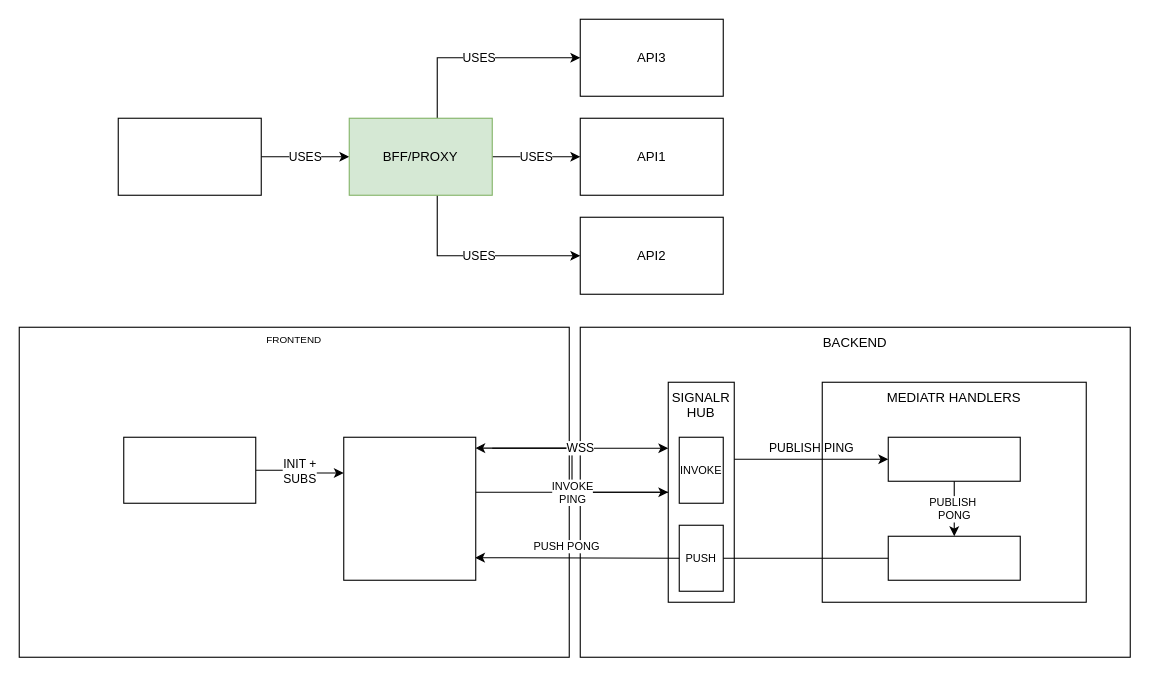
Some shapes in this 1150 by 677 pixel diagram are drawn without their labels. Each missing label, with the centre of its shape:
"APP COMPONENT" goes at (189,469).
"FE" goes at (189,156).
"PING HANDLER" goes at (953,458).
"PONG HANDLER" goes at (953,557).
"SIGNALR" goes at (409,508).
